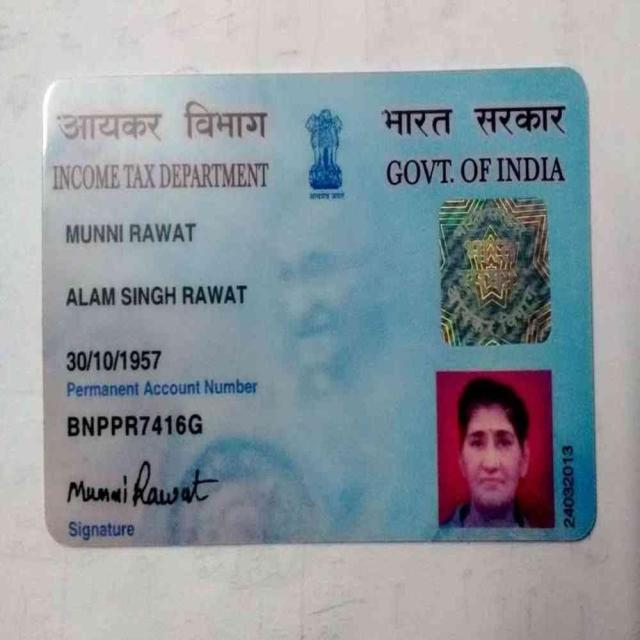pan_card: (49, 78, 582, 548)
